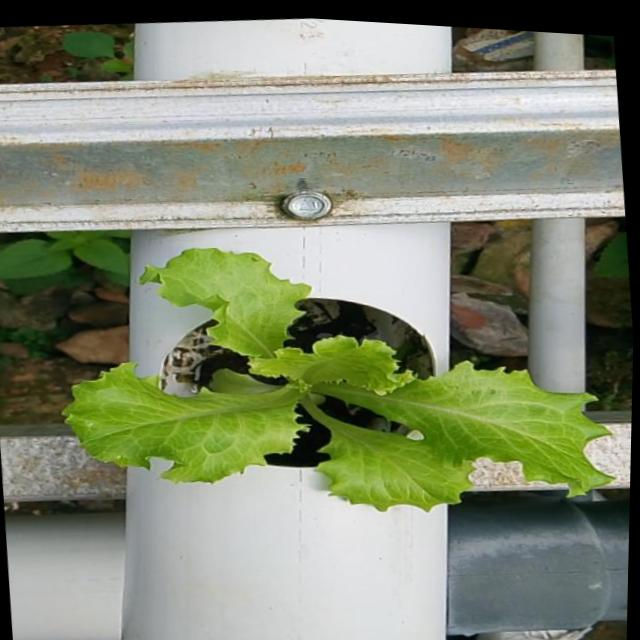Baby: (58, 245, 608, 506)
